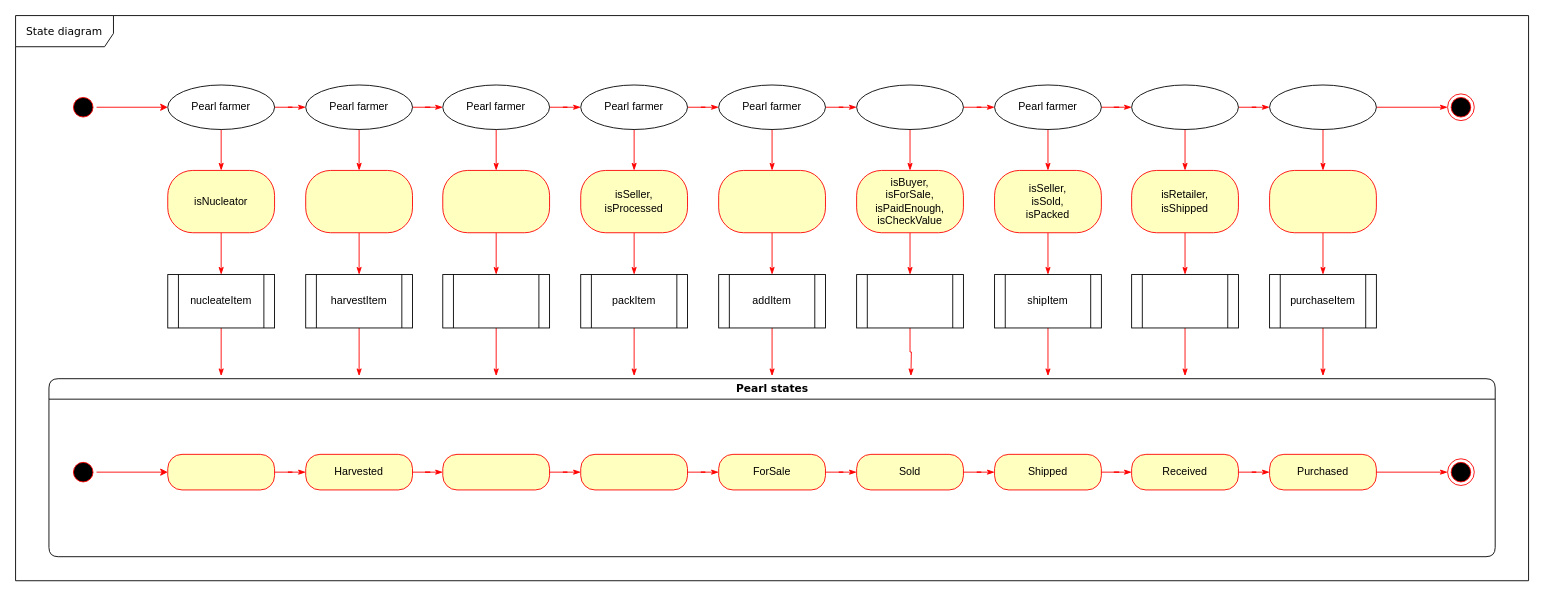
The diagram is 1544 pixels wide and 596 high, and some of its shapes have lost their labels. Here are the shapes that lost their labels. From the top down, the box of each, then its label:
(856, 84, 963, 129): Distributor
(1131, 84, 1238, 129): Retailer
(1269, 84, 1376, 129): Consumer
(305, 170, 413, 233): isNucleator, isSeller
(442, 170, 550, 233): isSeller, isHarvested
(718, 170, 825, 233): isSeller
(1269, 170, 1376, 233): isConsumer, isForPurchase, isPaidEnough, isCheckValue
(442, 274, 550, 328): processItem
(856, 274, 963, 328): buyItem
(1131, 274, 1238, 328): receiveItem
(167, 453, 275, 490): Nucleated
(442, 453, 550, 490): Processed
(580, 453, 688, 490): Packed
